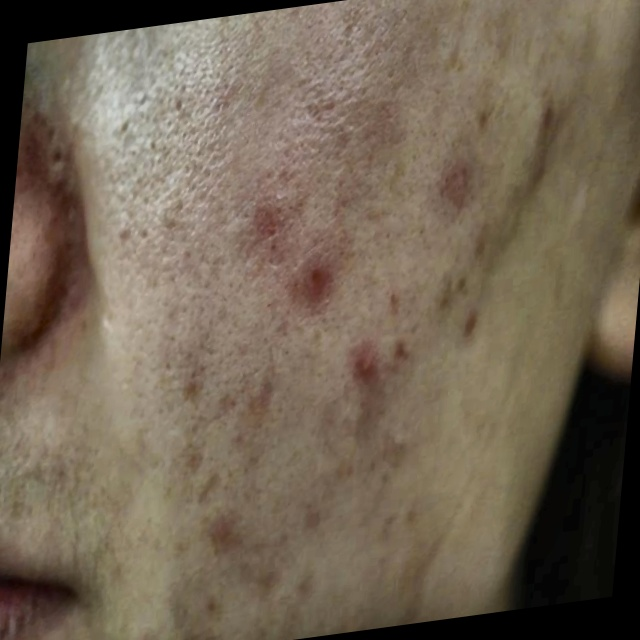comedone: (432, 141, 489, 209), (351, 323, 394, 390), (299, 239, 335, 317), (256, 187, 291, 247), (453, 307, 484, 341)
